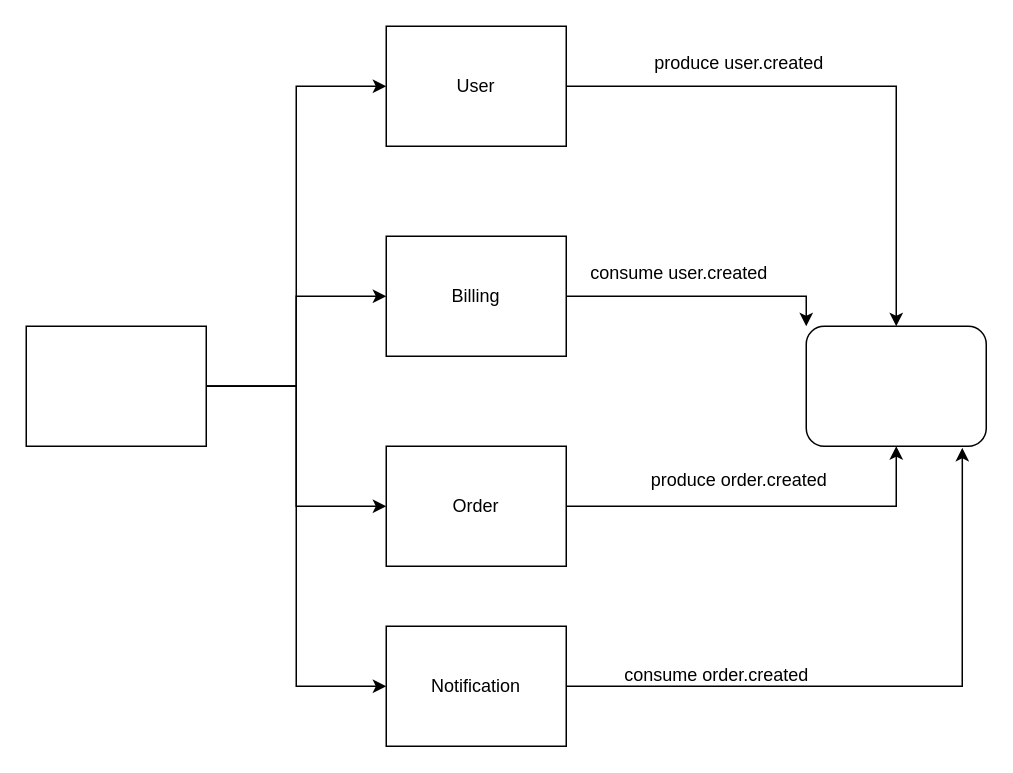
Image size: 1013x773. Some labels were removed from this diagram. Here are the shapes that lost their labels. From the top down, the centre of each, then its label:
At (x=115, y=385): "Gateway".
At (x=895, y=385): "Kafka".
